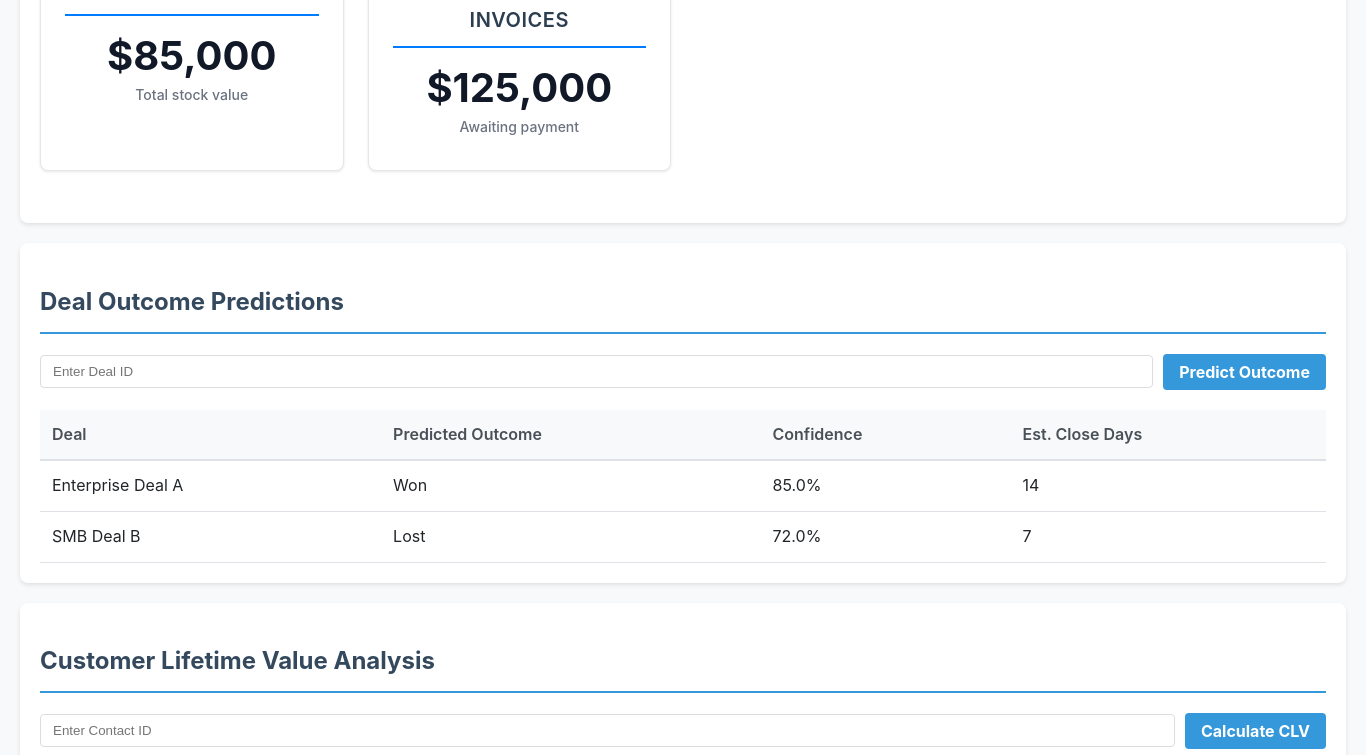
Test case: AnalyticsDashboard › Deal Prediction Functionality › displays prediction feedback
(page scrolled)
Type "123" into the field with placeholder "Enter Deal ID".
click(597, 372); type("123")  # box x1=40 y1=355 x2=1153 y2=388
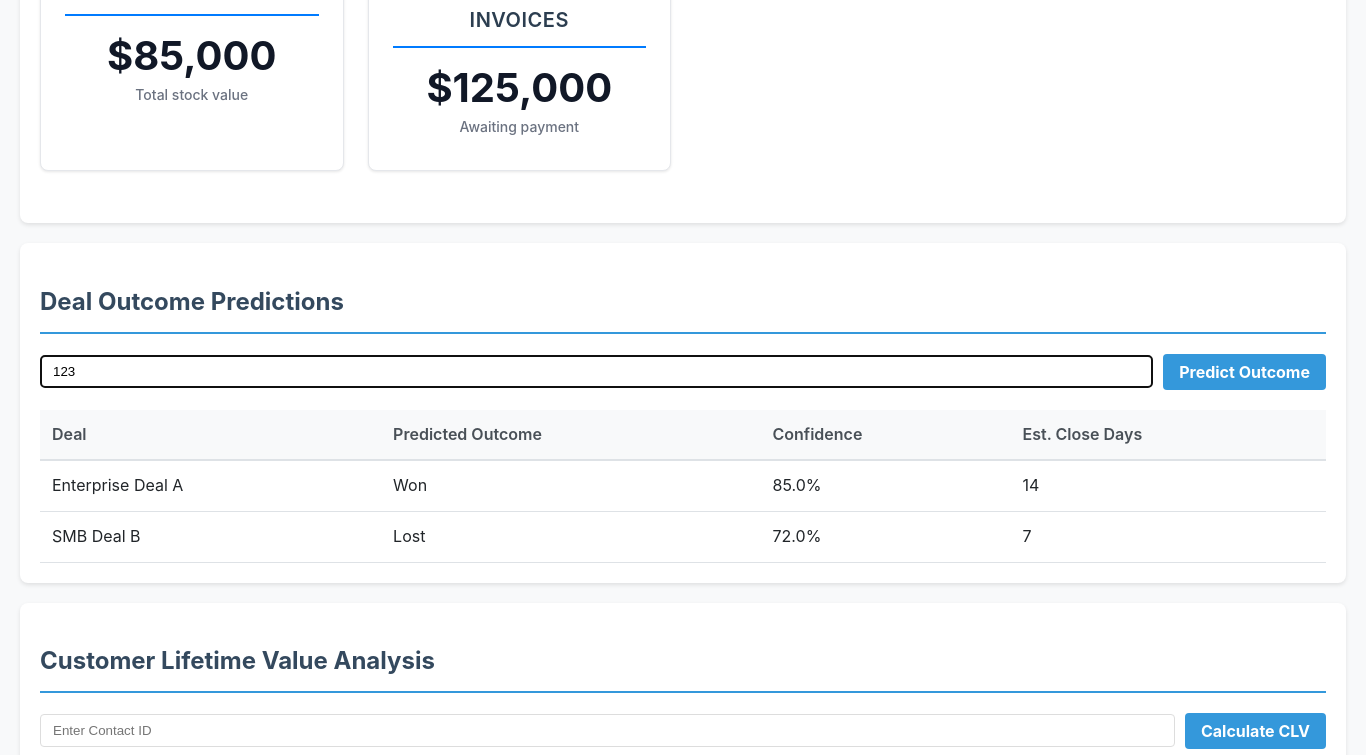
Click the button "Predict Outcome".
click(1245, 372)  # box x1=1163 y1=354 x2=1326 y2=390
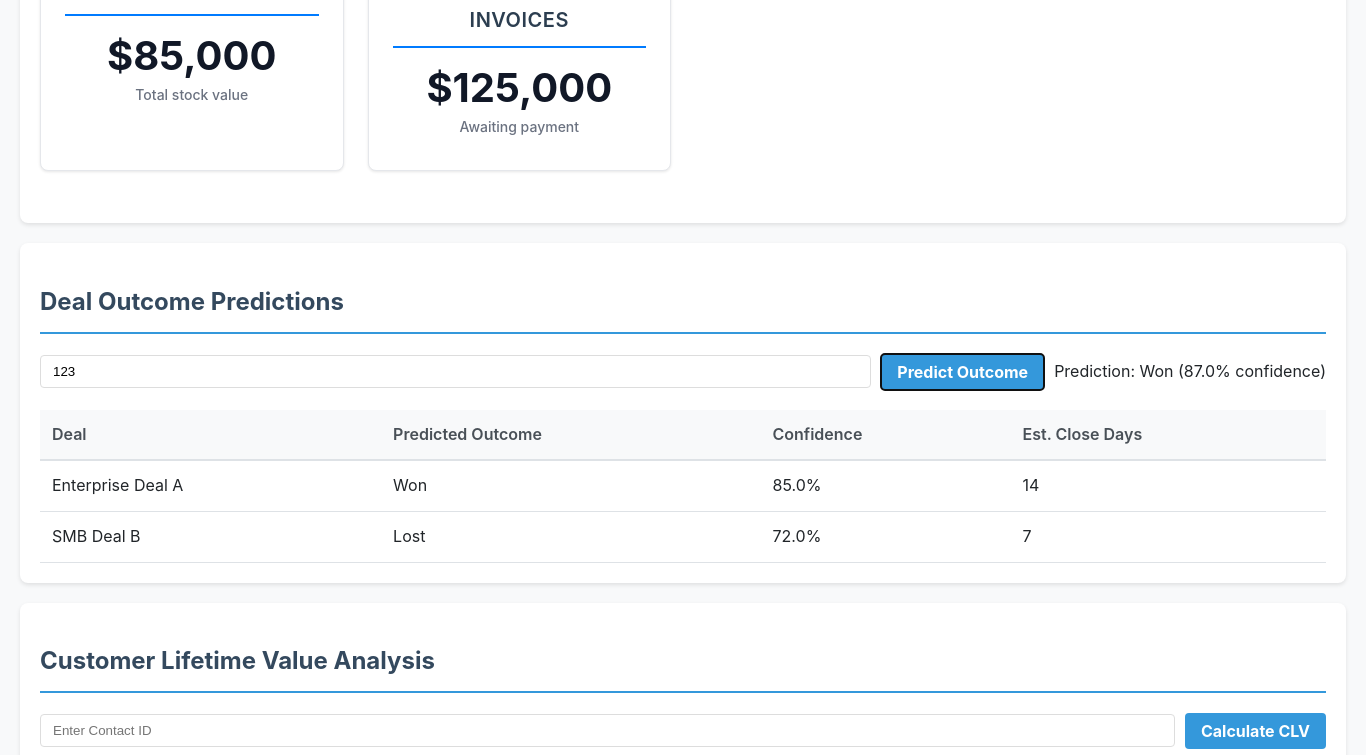
Check: the text "Prediction: Won (87.0% confidence)" is shown, box x1=1054 y1=359 x2=1326 y2=384
